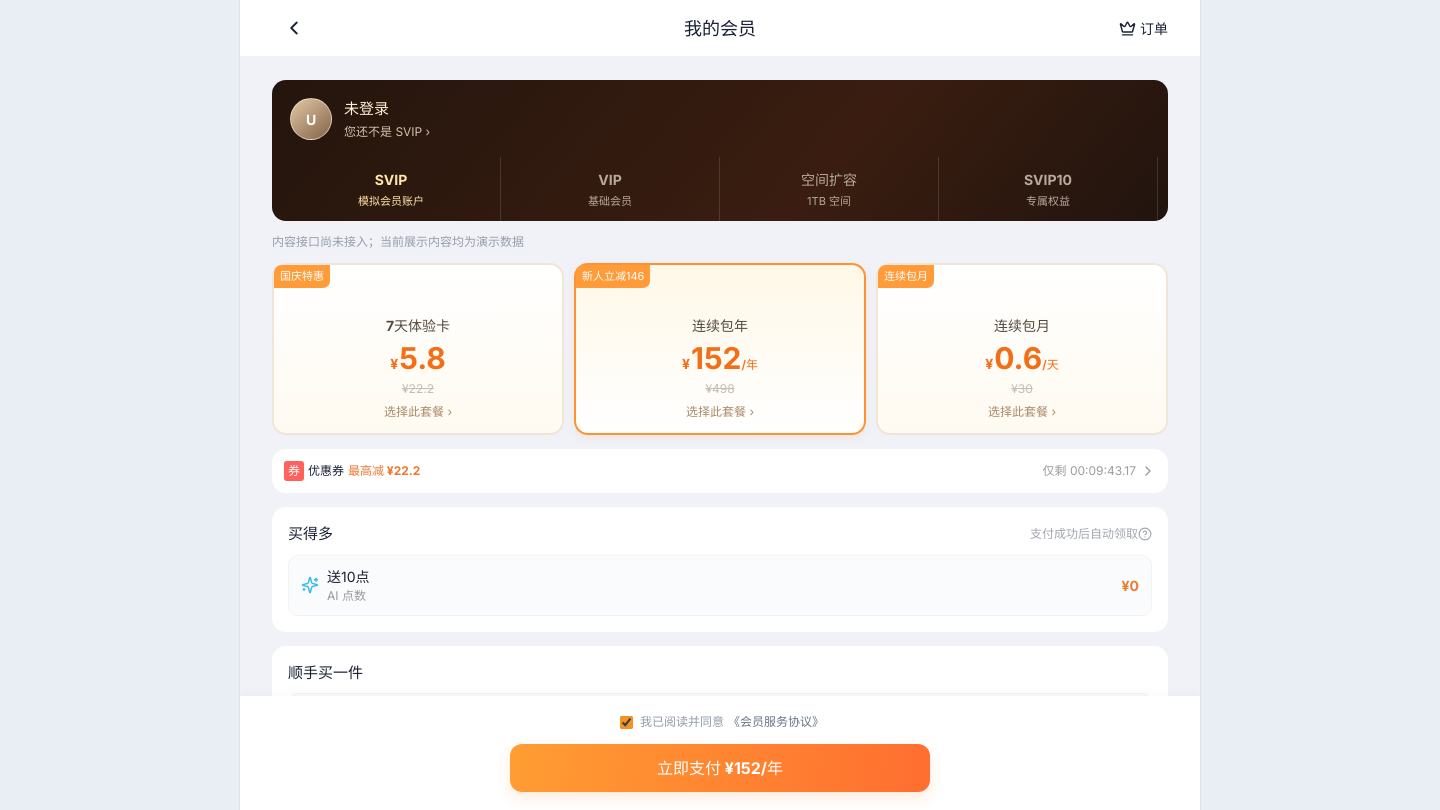
mobile membership page › shows a centered alert dialog that can be dismissed
Click the button "立即支付 ¥152/年": (720, 768) [510,744,930,792]
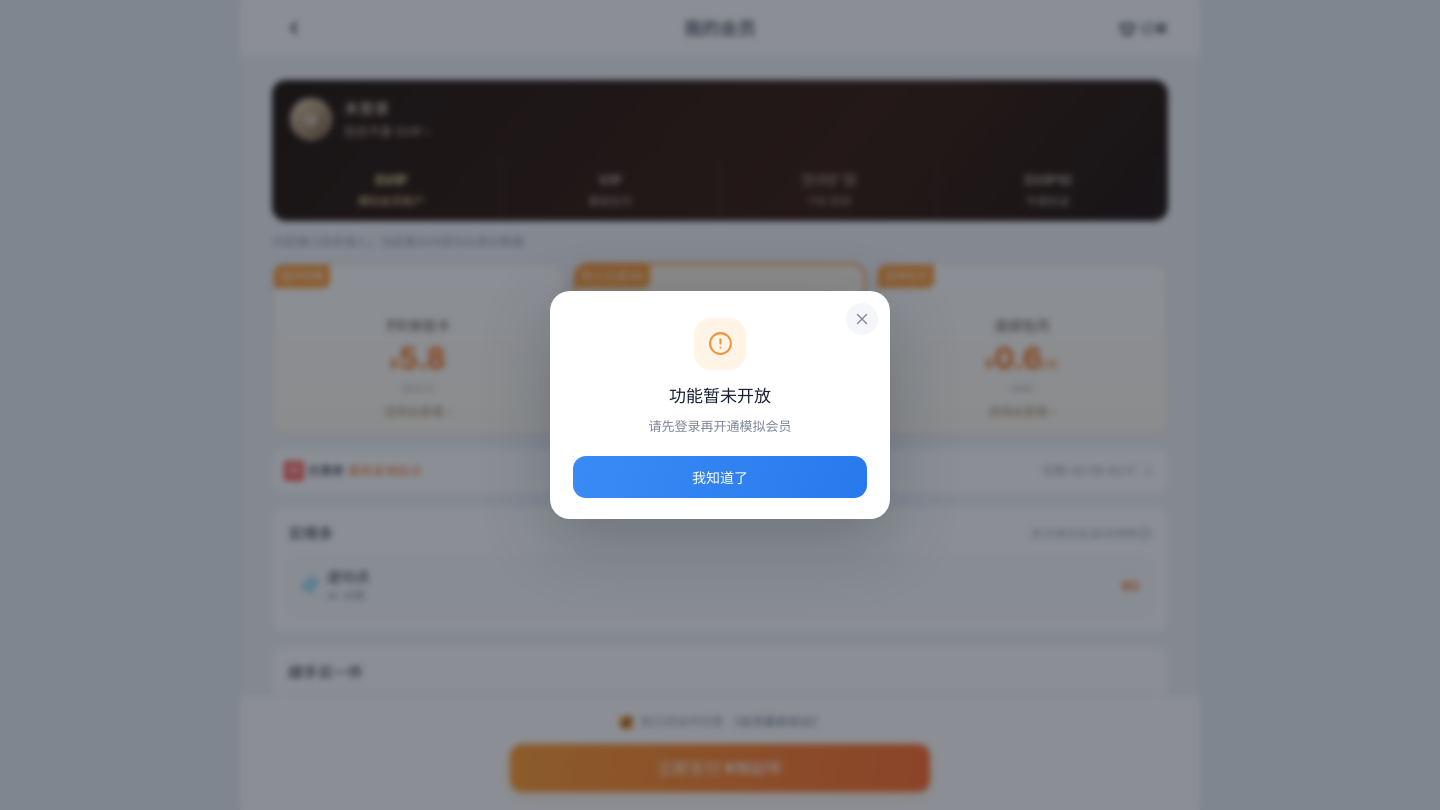
Expected: the dialog is shown, [550,291,890,519]
Click the button with class "unavailable-confirm": (720, 477) [573,456,867,498]
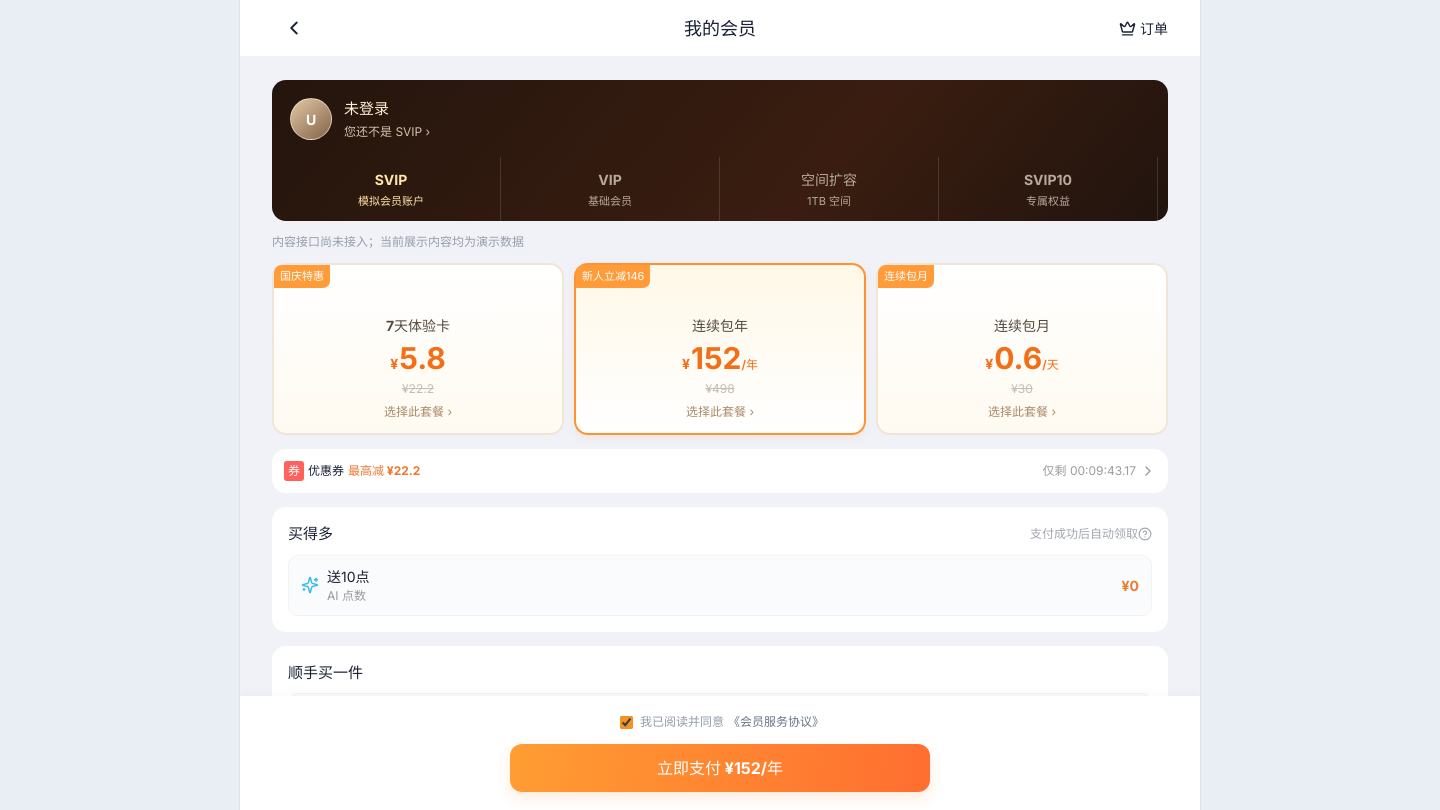
Expected: the dialog is gone
